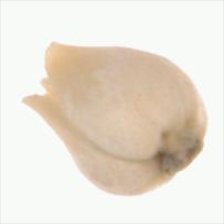L1: (20, 40, 63, 120), (152, 129, 205, 187)
L2: (21, 40, 208, 196)
